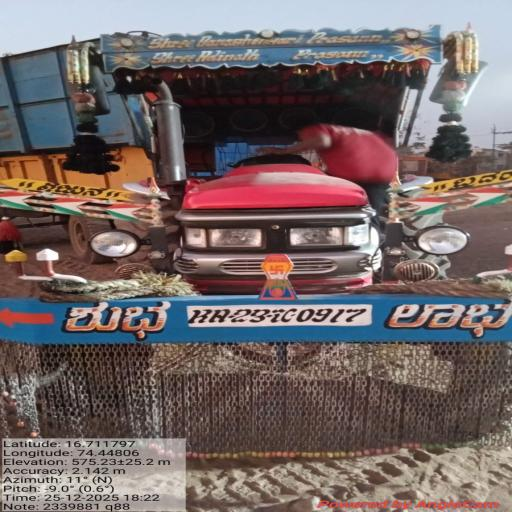number_plate: (178, 294, 394, 334)
